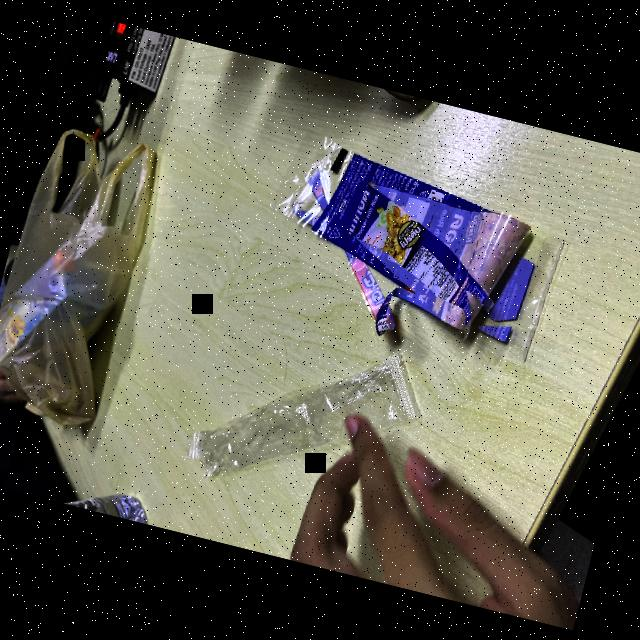scrap_plastic: (254, 120, 578, 376), (186, 306, 432, 538)
